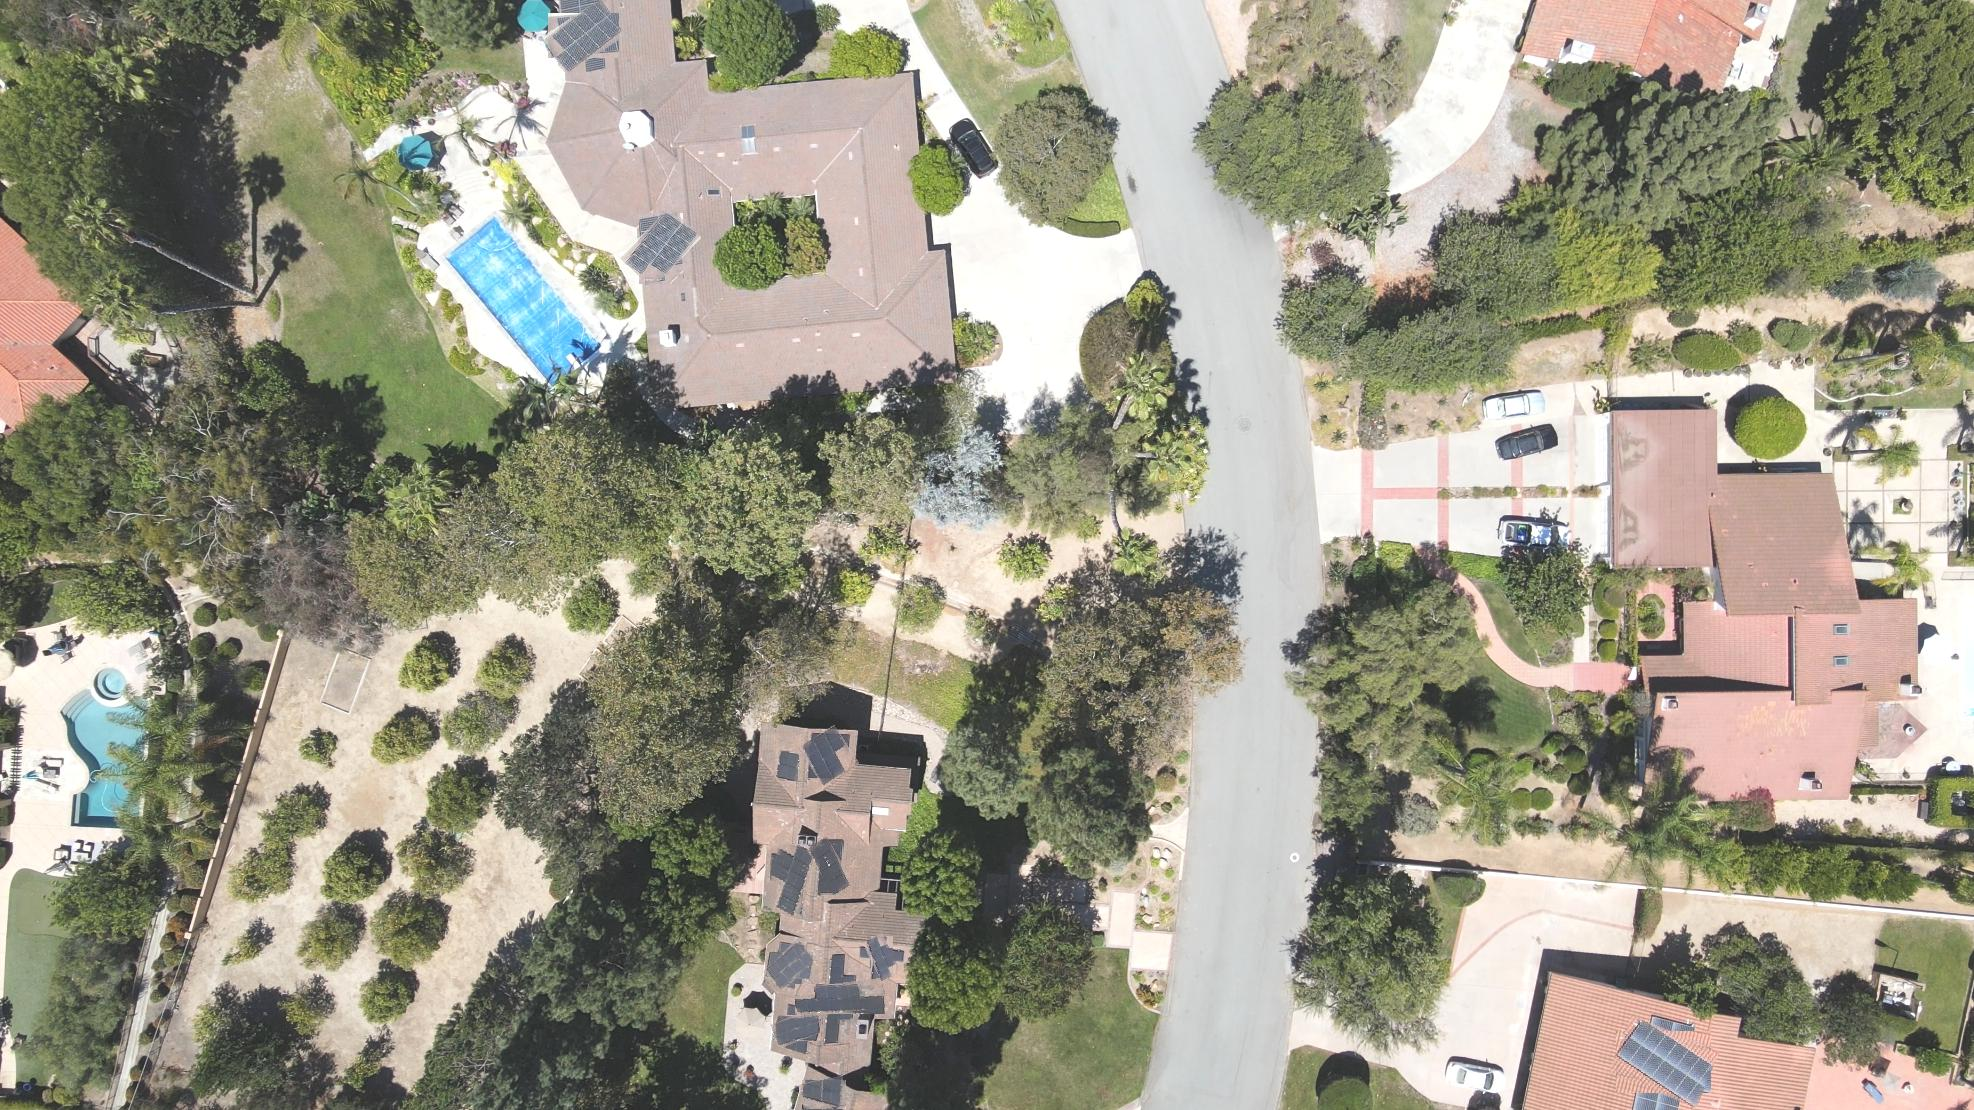solar-panels: (1615, 1019, 1712, 1109), (552, 0, 622, 72), (624, 210, 697, 275), (771, 846, 815, 918), (801, 726, 846, 786), (796, 985, 885, 1014), (811, 836, 851, 895), (767, 941, 815, 989), (774, 1011, 819, 1048), (866, 937, 898, 981), (801, 1075, 842, 1106), (777, 751, 799, 781)
